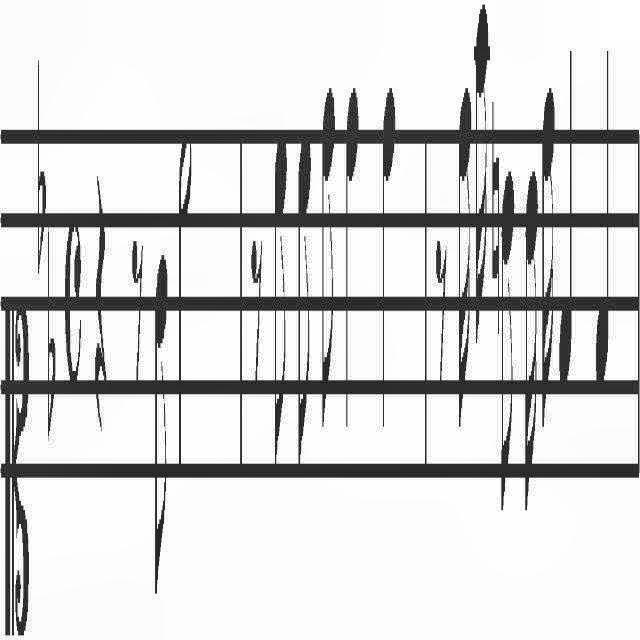Bemol: (34, 32, 48, 274), (46, 216, 56, 480)
Eighth-note: (150, 240, 172, 640), (316, 76, 339, 457), (343, 75, 365, 435), (294, 111, 314, 505), (272, 121, 292, 466), (382, 62, 398, 442), (501, 144, 514, 540)
Eighth-rest: (250, 212, 266, 440), (434, 212, 448, 404), (132, 200, 144, 400)
Half-note: (175, 81, 198, 506)
Quarter-note: (590, 26, 614, 404), (560, 32, 576, 390)
Quarter-rest: (88, 170, 108, 490)
Sixteenth-note: (522, 158, 540, 546), (456, 59, 472, 440), (473, 0, 490, 356), (542, 65, 556, 422)
